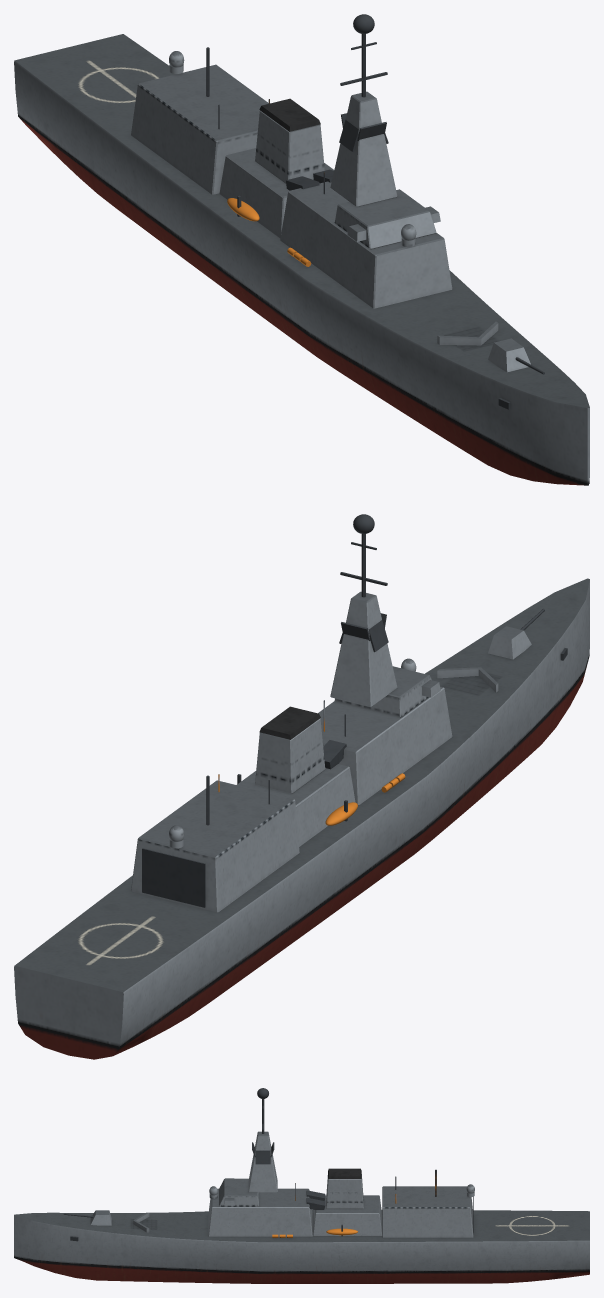
File: frigate.fbx
The picture shows the model from 3 angles, top to bottom: view 1: azimuth 30°, elevation 25°; view 2: azimuth 150°, elevation 25°; view 3: azimuth 270°, elevation 25°; orthographic projection. The views are drawn at different scales.
Parts seen in each view (by area): view 1: frigate; view 2: frigate; view 3: frigate.
Boxes of the visible parts, <box> form: frigate: <box>14,14,589,485</box>; frigate: <box>14,514,589,1059</box>; frigate: <box>14,1088,589,1283</box>.
Bounding box in the file's own units: 1633 × 4341 × 12040.
1 material, 1 textured.
